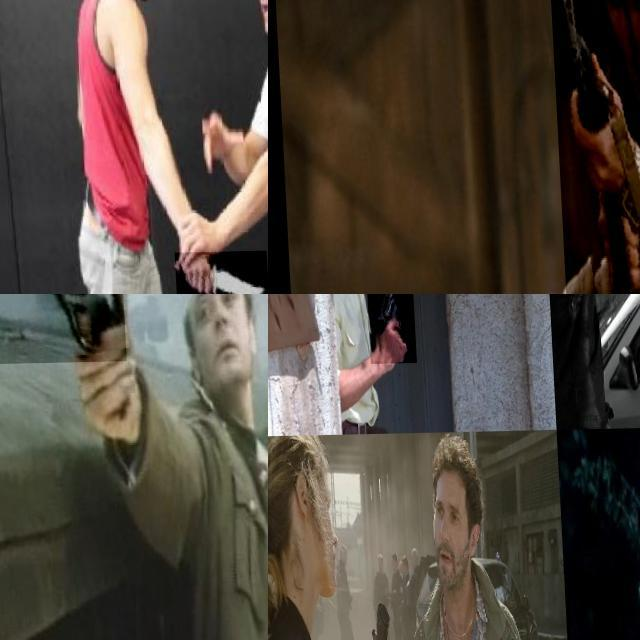-: (170, 252, 265, 294)
gun-knife-thesis - v11 Yolov5 augmented: (547, 0, 640, 294), (0, 294, 123, 374), (363, 294, 414, 364), (591, 294, 640, 333), (360, 600, 400, 640)
